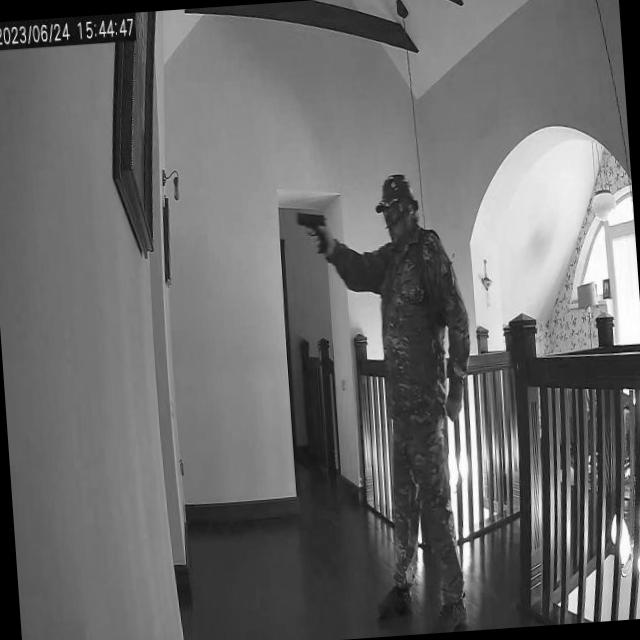gun: (294, 206, 328, 254)
person with a gun: (292, 167, 490, 635)
